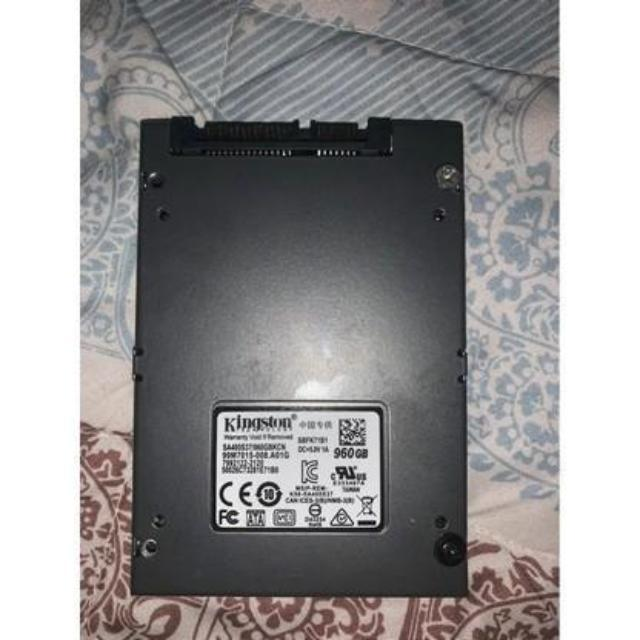DISK: (132, 109, 472, 600)
